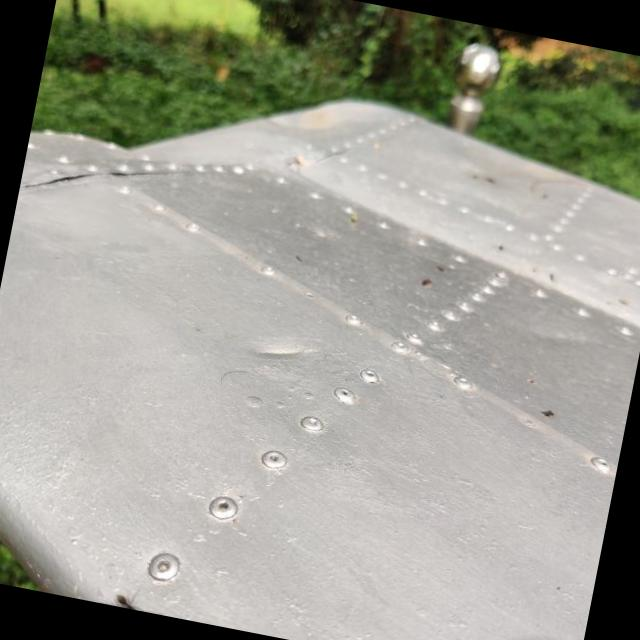Dent: (220, 333, 328, 408)
